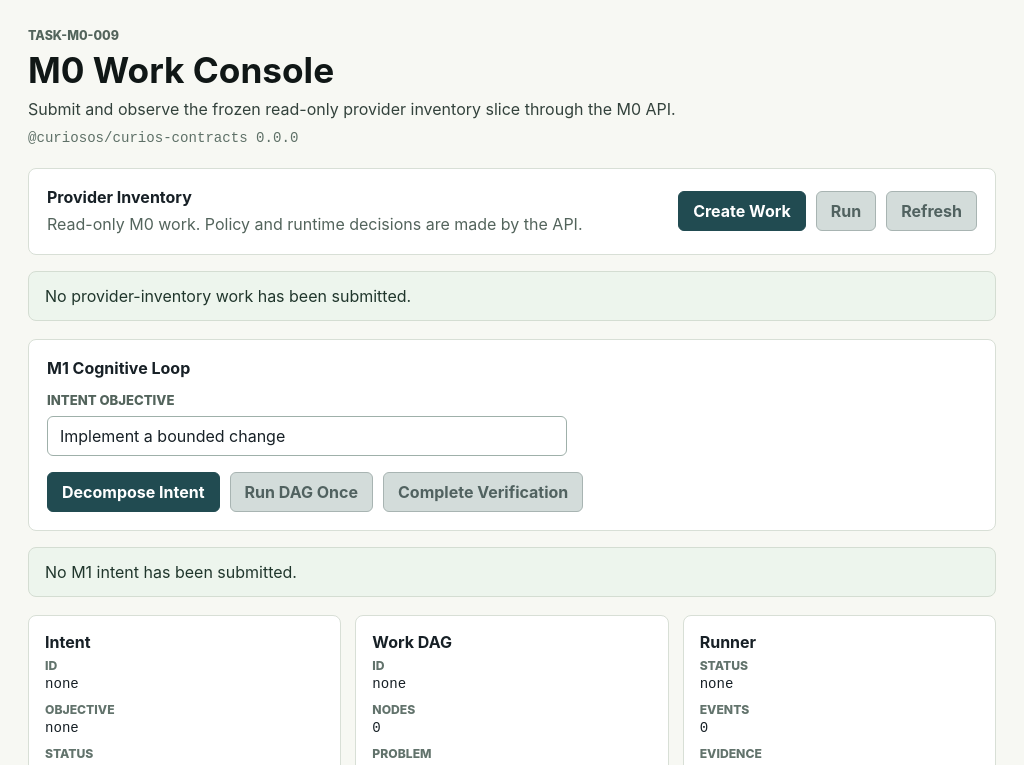
TASK-M0-009 web work console › shows BLOCKED policy truth without treating it as success
Click the button "Create Work": (742,211) [678,191,806,231]
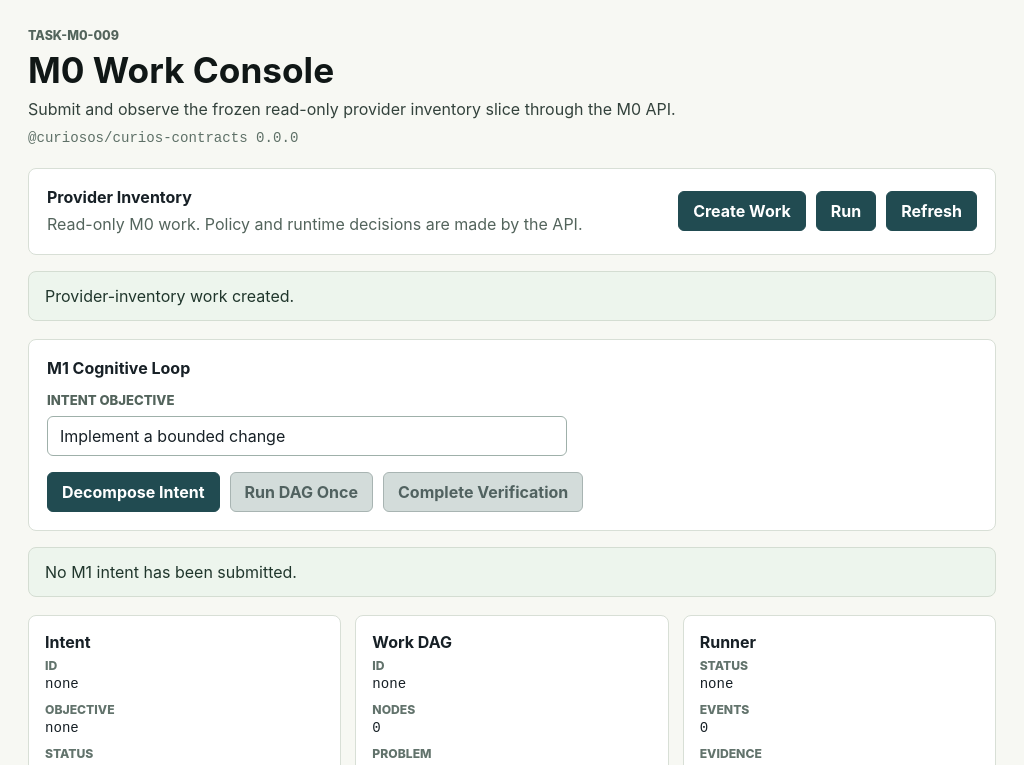
Click the button "Run": (846,211) [816,191,876,231]
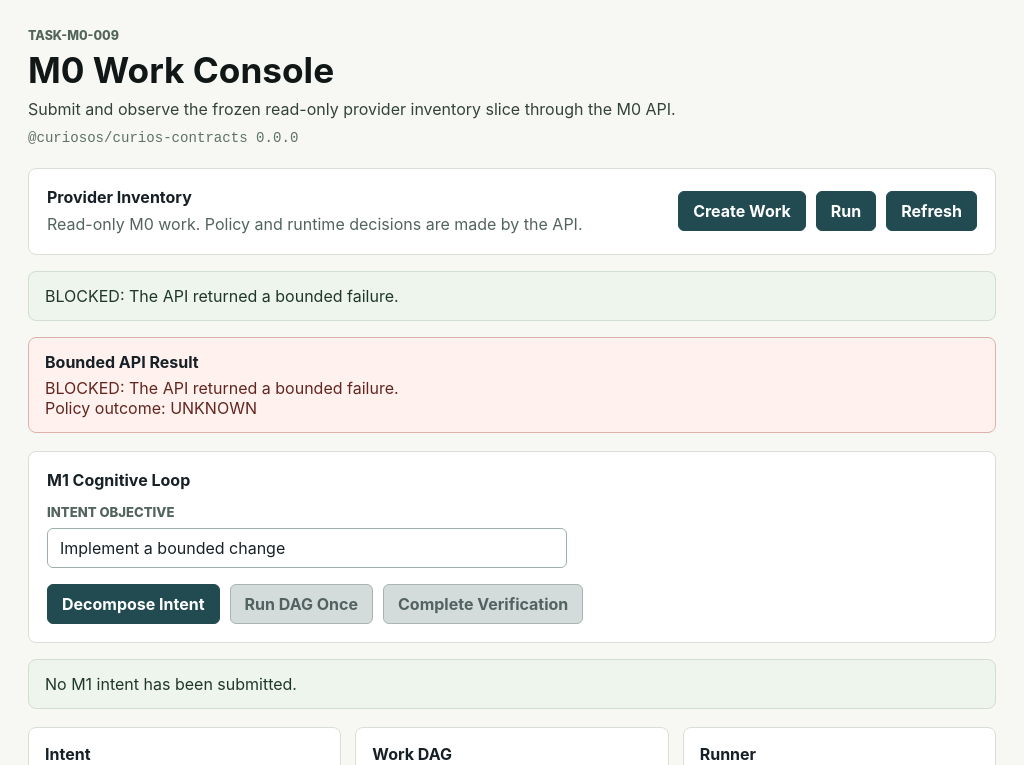
Check: the text "BLOCKED" is shown, box [45,286,399,306]
Check: the text "UNKNOWN" is shown, box [170,398,257,418]
